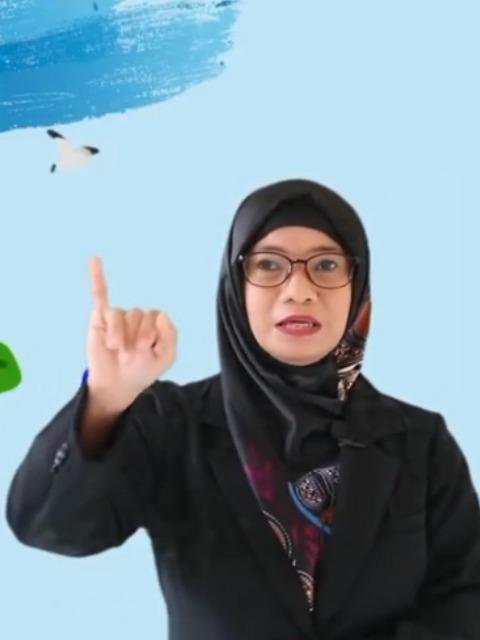I: (83, 257, 175, 399)
